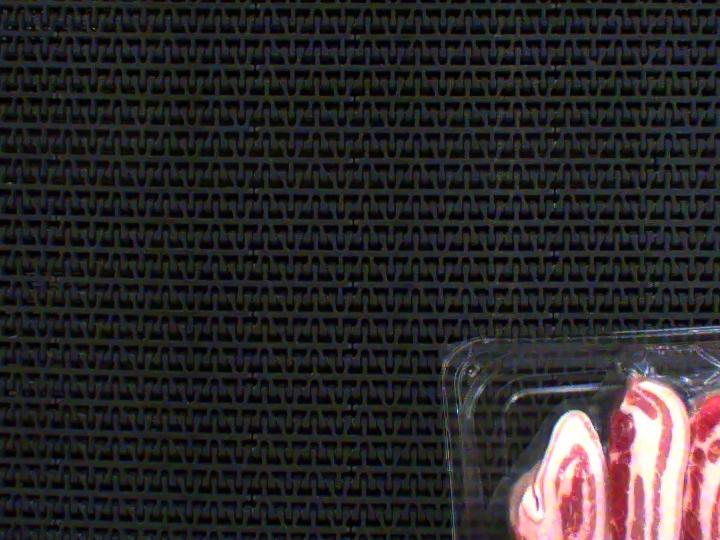unsealed: (500, 335, 720, 494)
